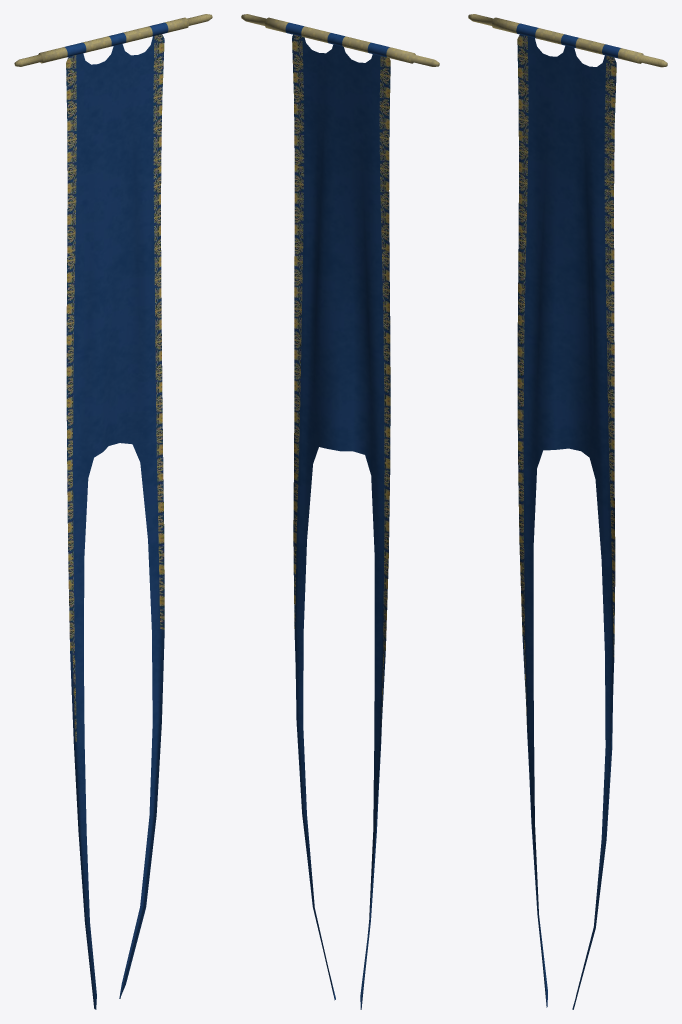
Rendered from SM_fabric_decoration_02.glb.
The picture shows the model from 3 angles, left to right: view 1: azimuth 30°, elevation 25°; view 2: azimuth 150°, elevation 25°; view 3: azimuth 330°, elevation 25°; orthographic projection.
Parts seen in each view (by area): view 1: SM_fabric_decoration_02; view 2: SM_fabric_decoration_02; view 3: SM_fabric_decoration_02.
Boxes of the visible parts, box(x1,y1,x2,y2) form: SM_fabric_decoration_02: box(14, 14, 212, 1009); SM_fabric_decoration_02: box(241, 14, 439, 1009); SM_fabric_decoration_02: box(468, 14, 667, 1009).
Size of the model in its own units: 3.9 by 18.42 by 0.2502.
2 materials, 2 textured.
